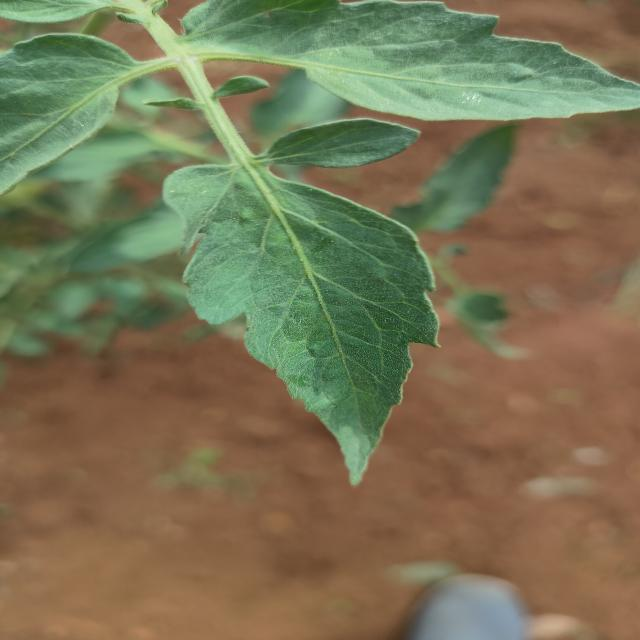tomato_healthy: (164, 163, 440, 482), (184, 0, 640, 120)
